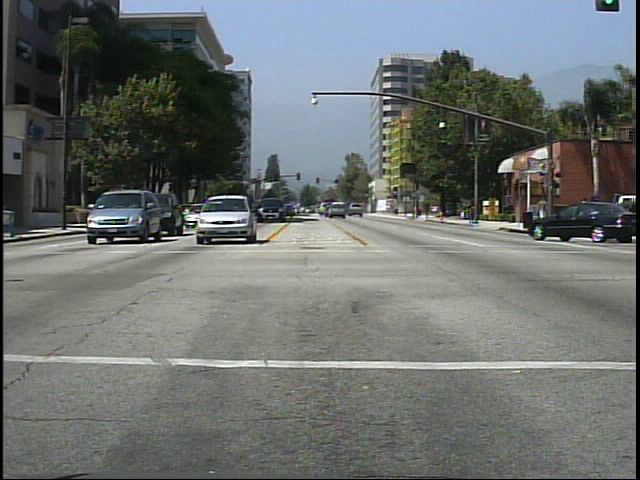person: (576, 193, 598, 237), (536, 192, 552, 241)
